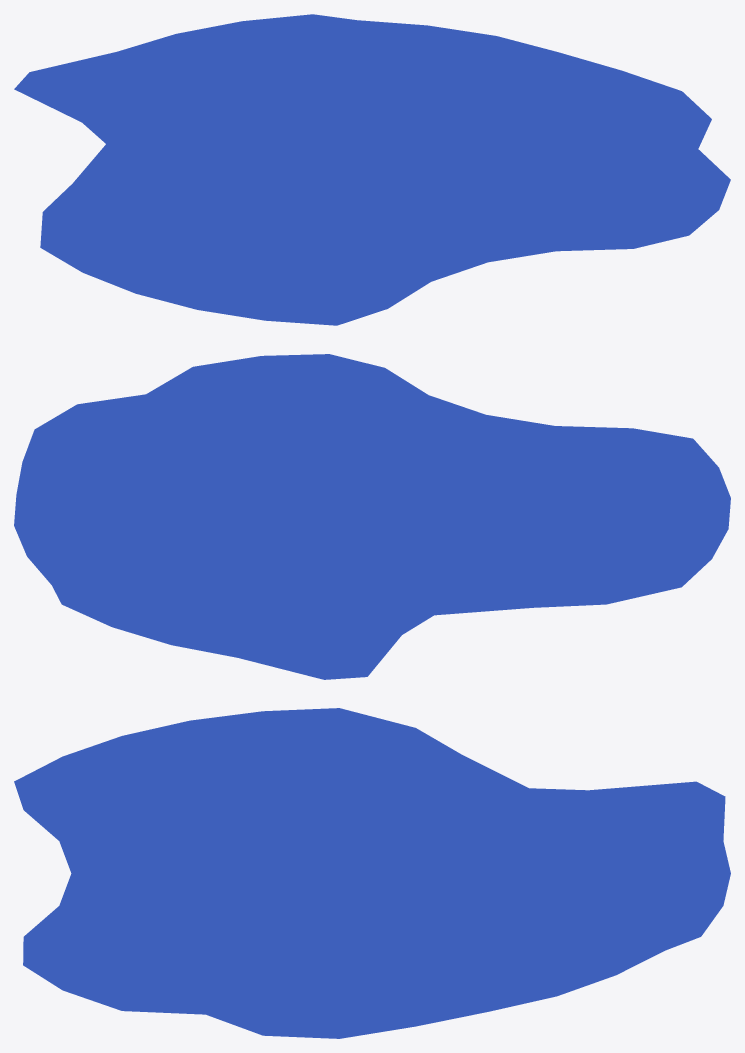
File: Poca.dae
3 renders of one model, top to bottom at view 1: azimuth 30°, elevation 25°; view 2: azimuth 150°, elevation 25°; view 3: azimuth 270°, elevation 25°, orthographic. The views are drawn at different scales.
Visible parts, largest first — view 1: Circle; view 2: Circle; view 3: Circle.
Boxes of the visible parts, left/top/right/bottom form: Circle: left=14, top=14, right=730, bottom=325; Circle: left=14, top=354, right=730, bottom=679; Circle: left=14, top=708, right=730, bottom=1038.
Size of the model in its own units: 2 by 1.83 by 0.
